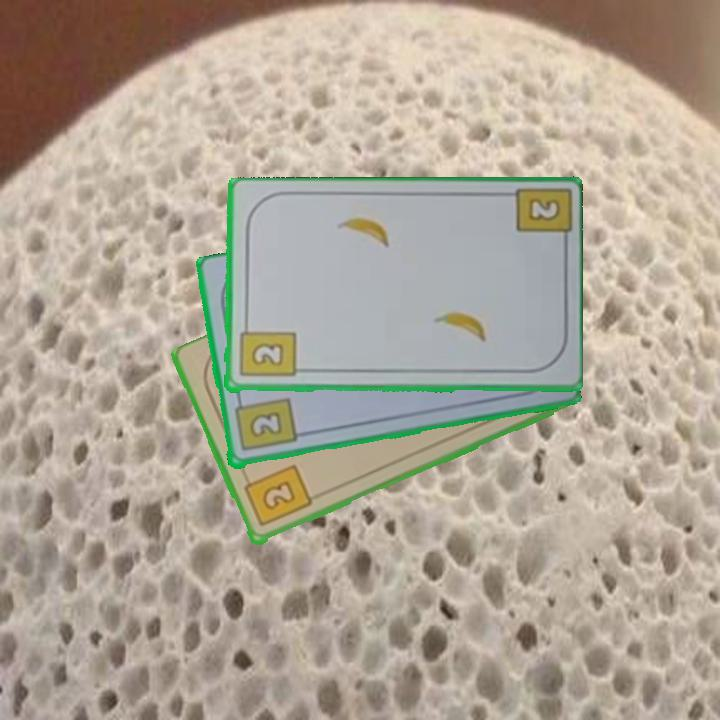2b: (240, 462, 314, 530), (230, 393, 299, 455), (236, 319, 297, 380), (524, 195, 563, 224)
